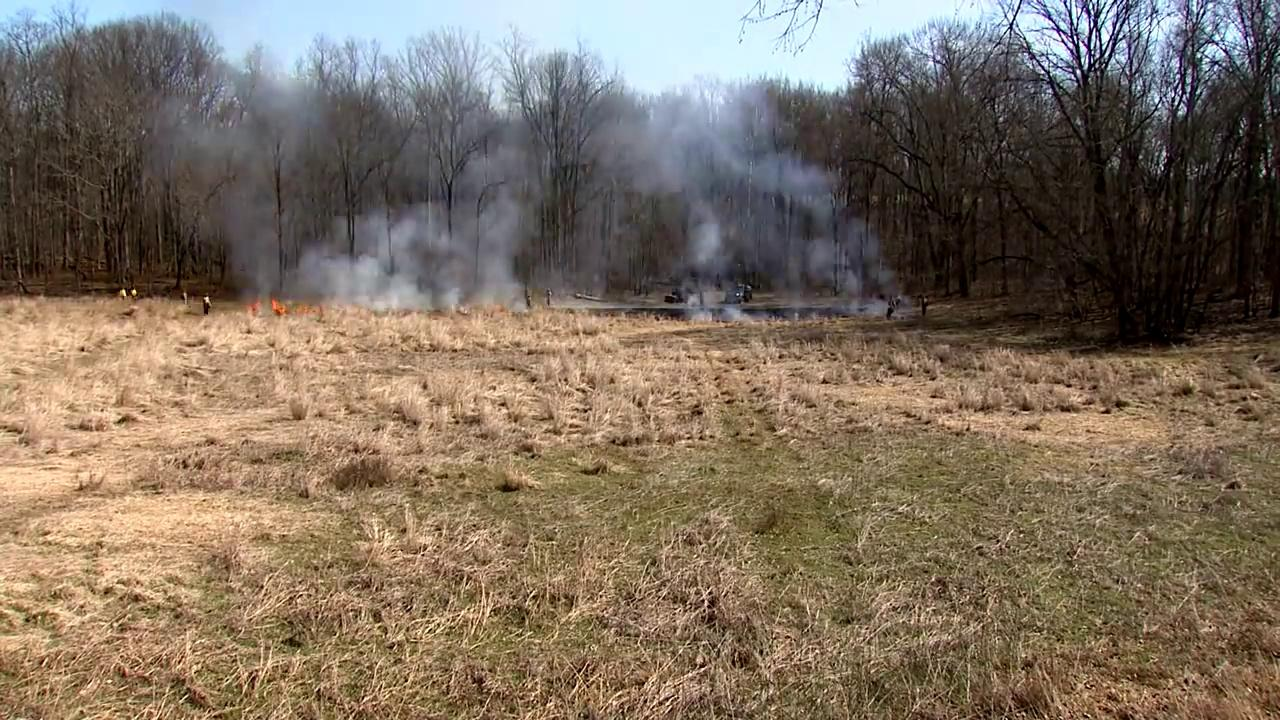Fire: (272, 297, 289, 316), (247, 297, 262, 312)
